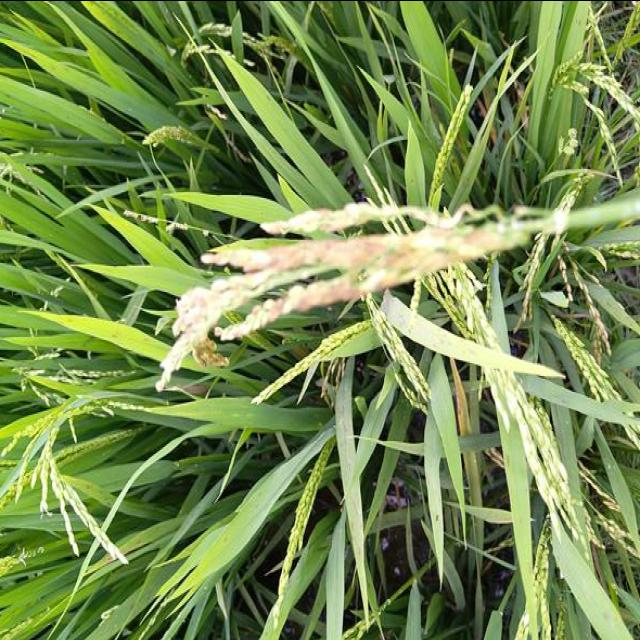Panicle Blight: (158, 201, 532, 388)
